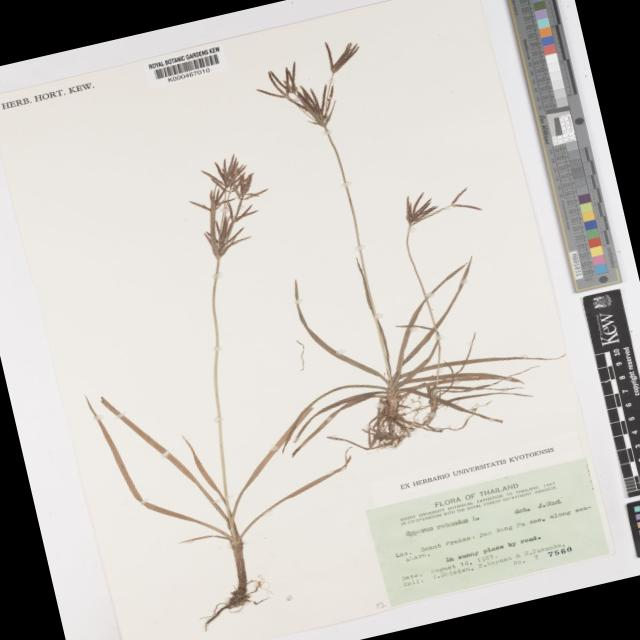cyperus: (233, 31, 377, 141), (162, 144, 275, 266), (389, 176, 484, 238)
